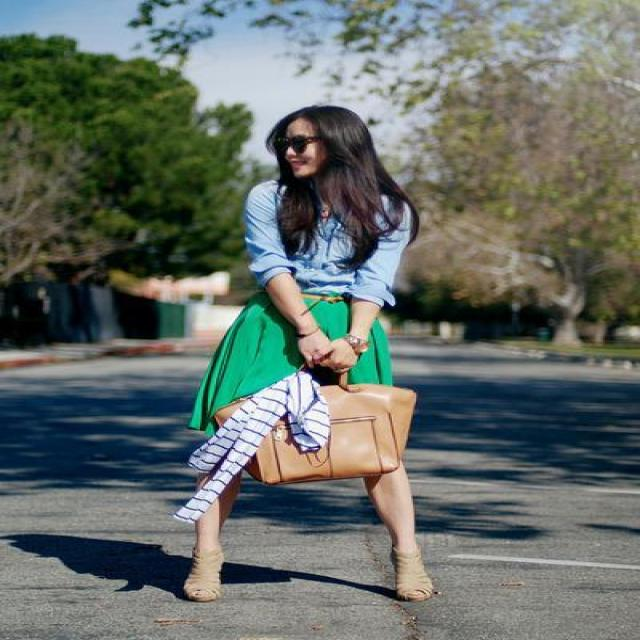bag: (256, 372, 414, 498)
shirt: (243, 180, 410, 305)
shoe: (184, 561, 432, 598)
skirt: (192, 294, 402, 422)
